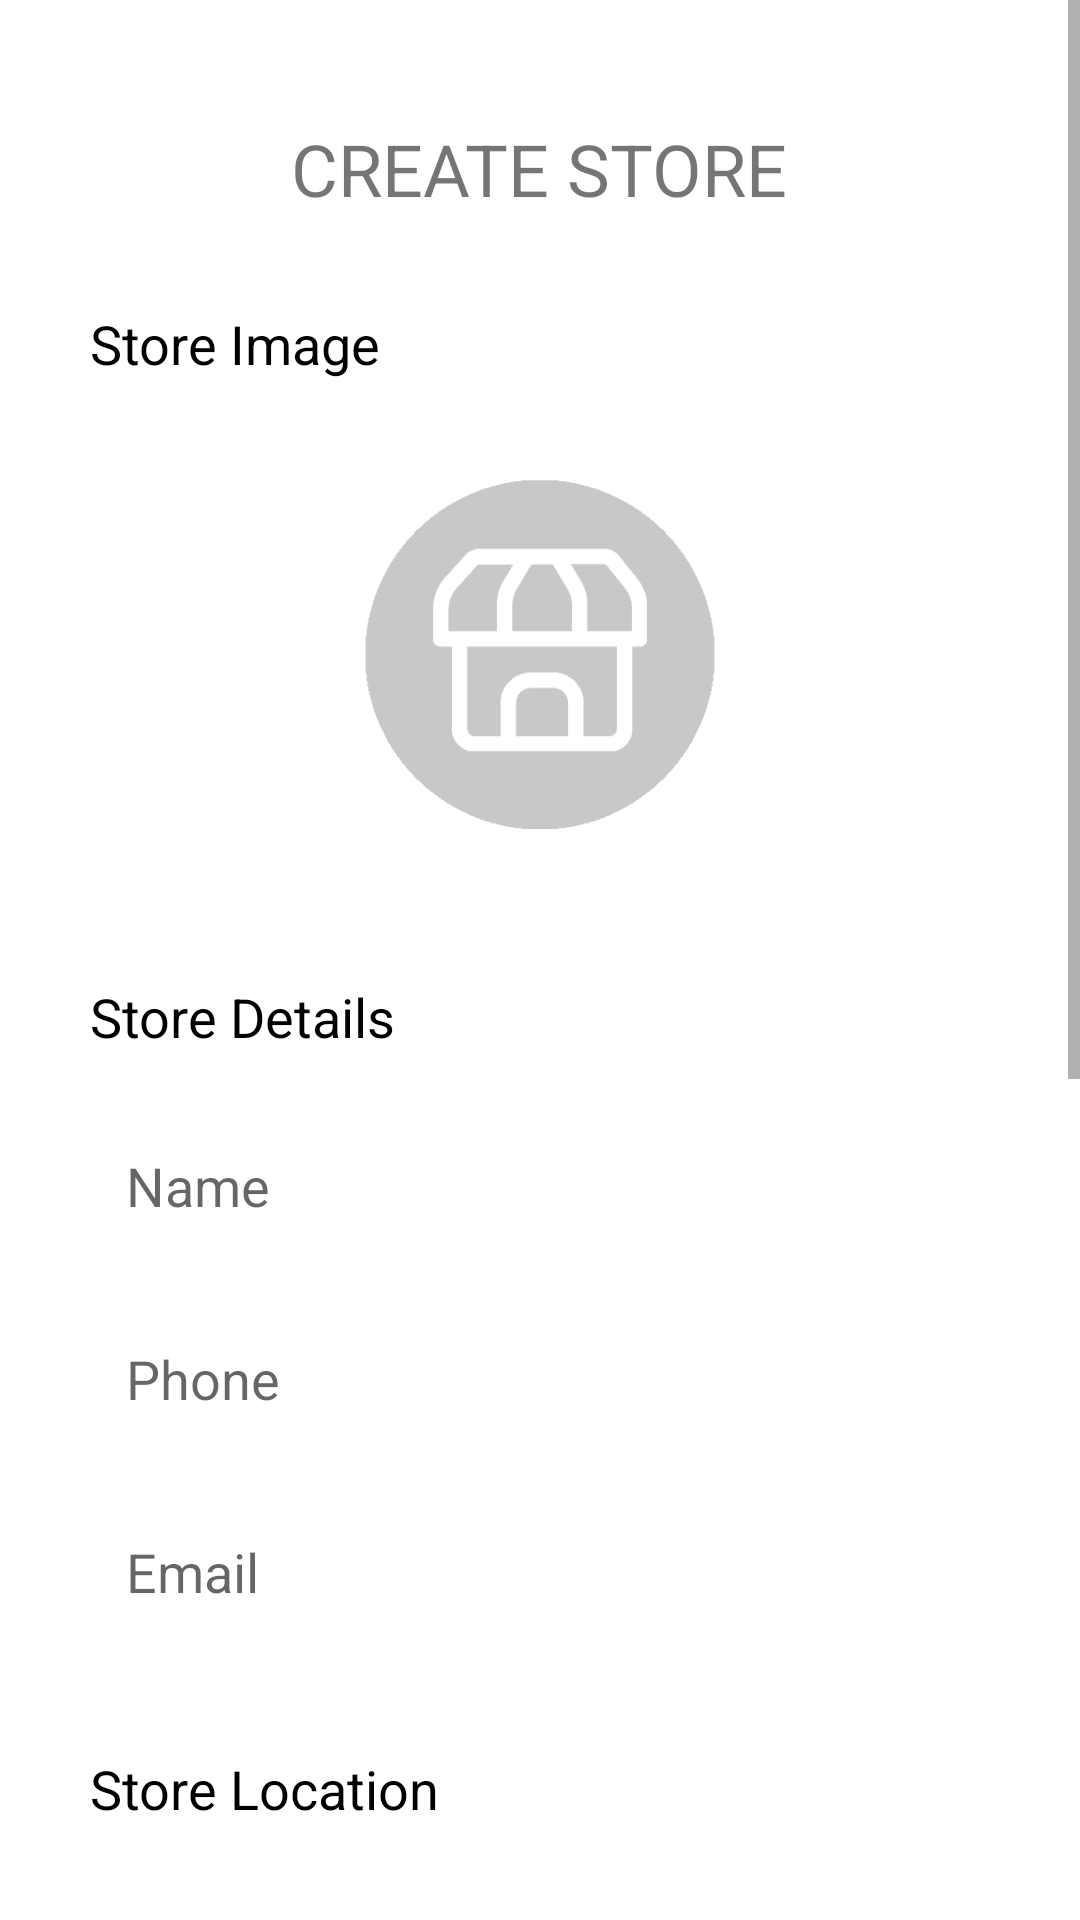

Icons on this 1080w x 1920h Android screen, each with the point to tap as (x=x, y=y):
store empty: (x=540, y=654)
